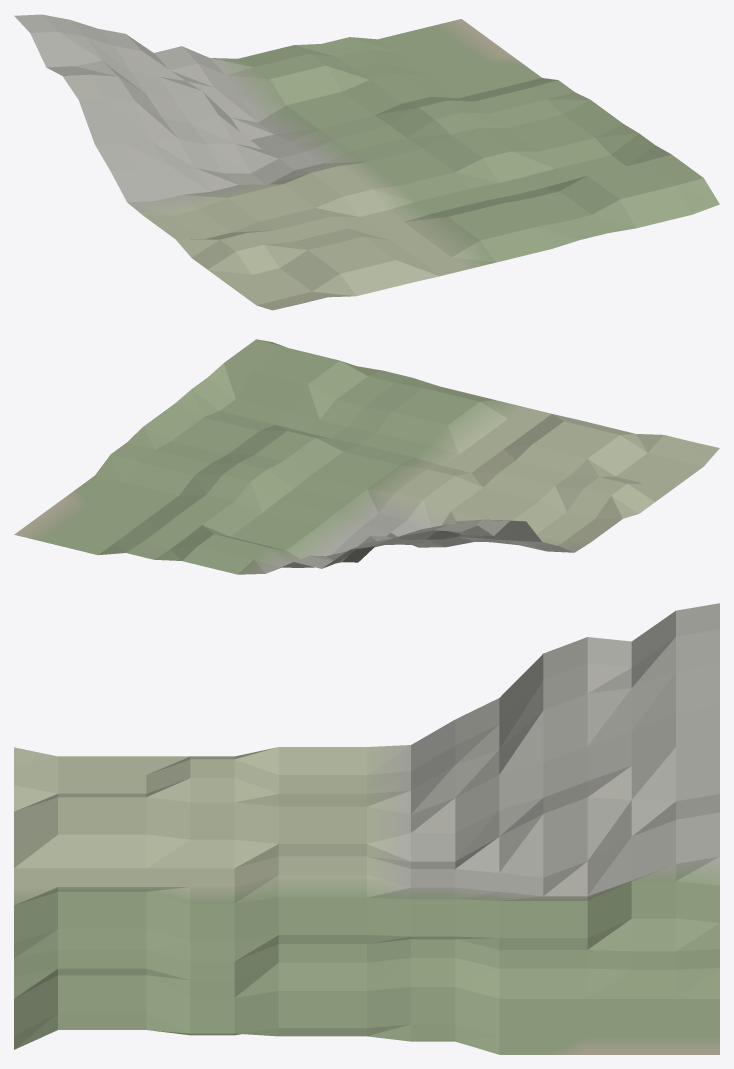
The picture shows the model from 3 angles, top to bottom: view 1: azimuth 30°, elevation 25°; view 2: azimuth 150°, elevation 25°; view 3: azimuth 270°, elevation 25°; orthographic projection. The views are drawn at different scales.
Size of the model in its own units: 32 by 8.27 by 32.
